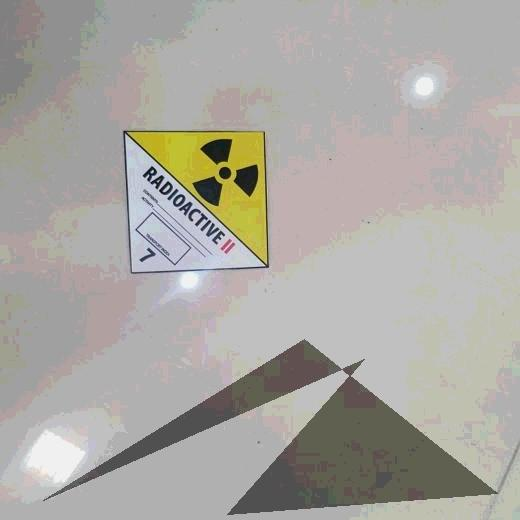radioactive: (126, 131, 267, 273)
